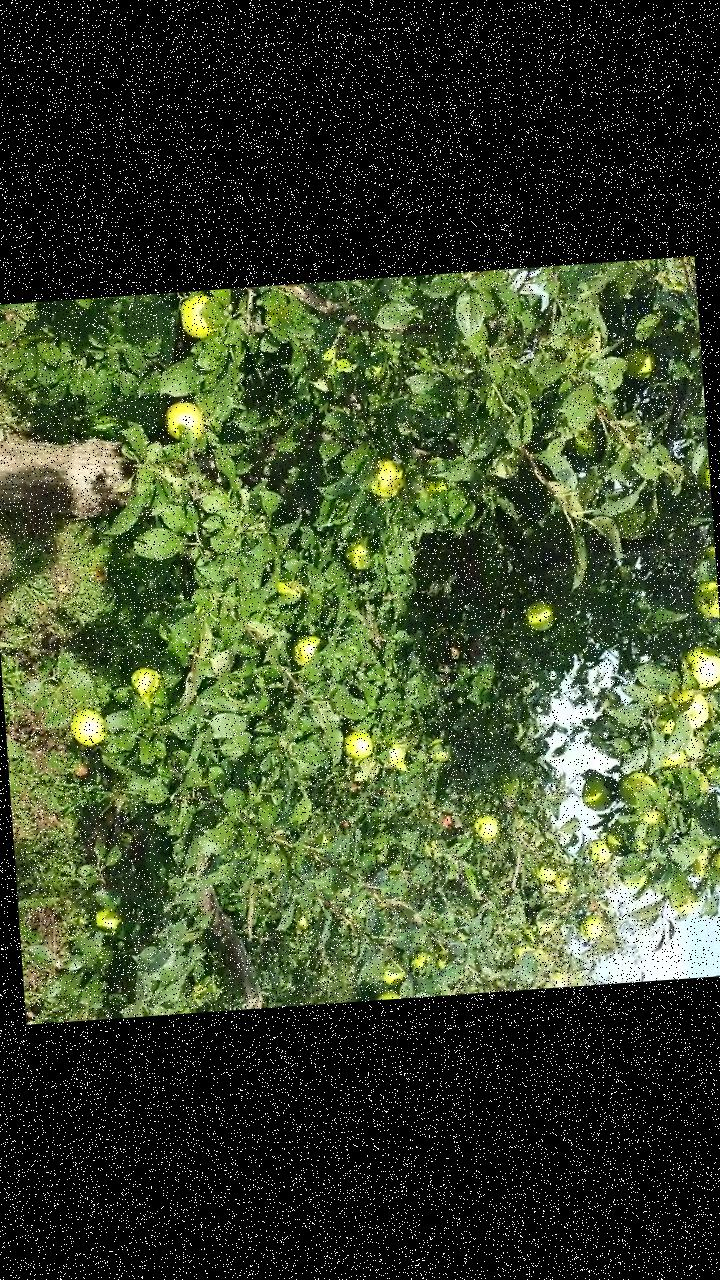Apple: (659, 687, 711, 733), (675, 645, 719, 697), (161, 398, 206, 444), (65, 704, 109, 751), (366, 454, 406, 504), (180, 296, 220, 344), (611, 499, 649, 543), (617, 768, 658, 806), (291, 632, 328, 672), (579, 775, 615, 815), (568, 421, 600, 462), (130, 665, 164, 703), (624, 342, 655, 382), (646, 703, 678, 740), (342, 730, 376, 764), (628, 806, 667, 834), (523, 604, 557, 636), (615, 862, 651, 892), (340, 539, 372, 572), (693, 580, 718, 622), (603, 815, 627, 858), (684, 844, 712, 880), (408, 946, 441, 976), (470, 812, 501, 842), (671, 888, 703, 917), (378, 960, 408, 990), (586, 837, 613, 868), (384, 744, 410, 776), (93, 908, 124, 933), (578, 912, 604, 941), (658, 749, 690, 772), (422, 474, 448, 500), (278, 578, 304, 604), (554, 869, 576, 897), (427, 740, 450, 764), (535, 863, 557, 882), (711, 847, 719, 894), (372, 987, 402, 999)
